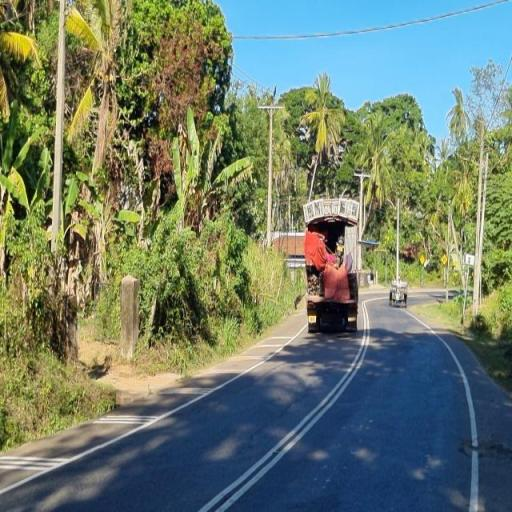double_white_line: (198, 295, 372, 512)
